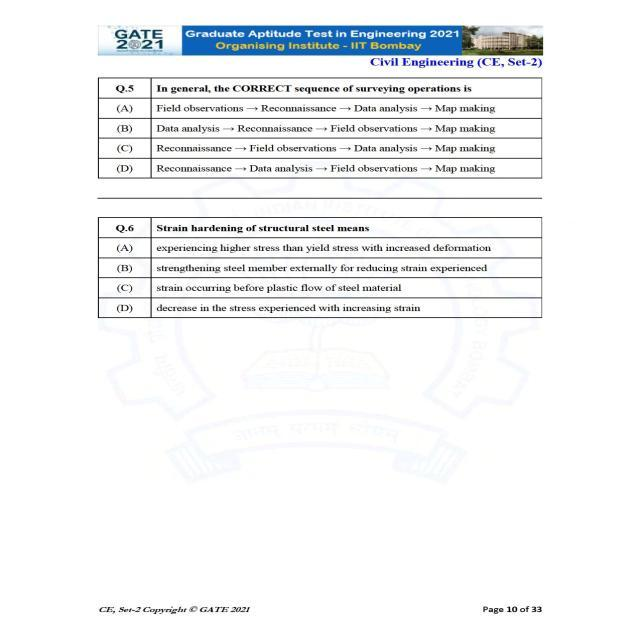Answer_Block: (102, 101, 542, 176), (99, 240, 538, 315)
Question_Answer_Block: (99, 79, 542, 179), (99, 218, 538, 316)
Question_Block: (102, 80, 537, 99), (102, 220, 534, 238)
Question_Paper_Area: (97, 77, 542, 319)
